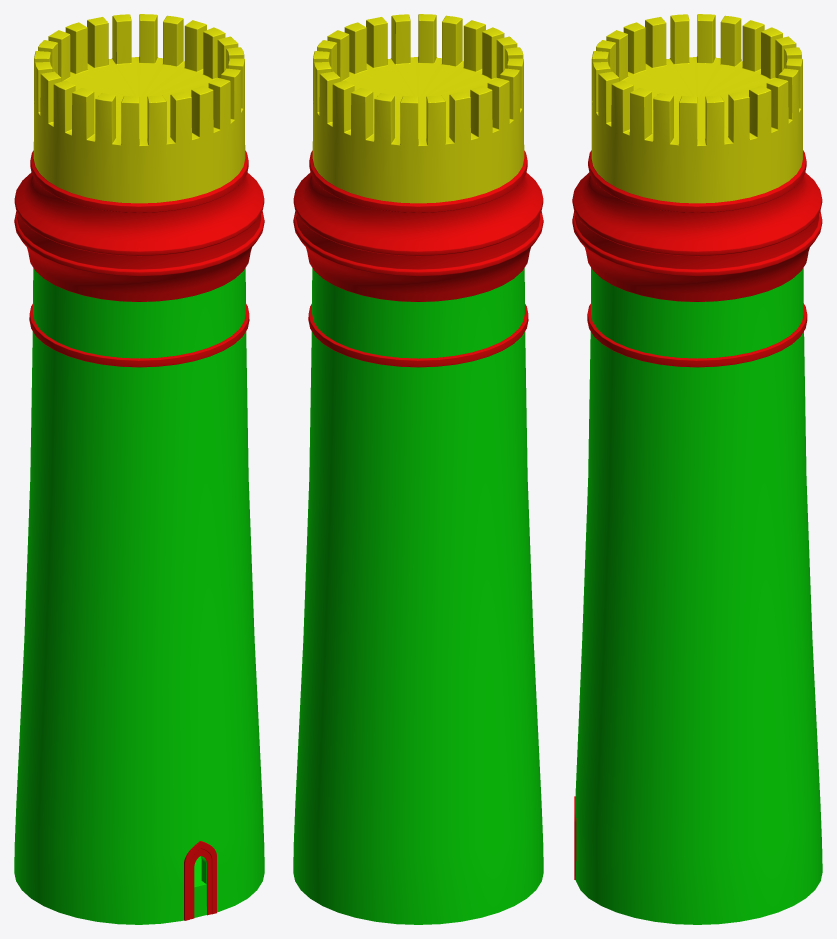
File: TowerLight.fbx
3 views of the same model, side by side, from view 1: azimuth 30°, elevation 25°; view 2: azimuth 150°, elevation 25°; view 3: azimuth 270°, elevation 25° (orthographic).
Visible parts, largest first — view 1: TowerLightMain, TowerLightTop, TowerLightRingLarge, TowerLightRingSmall, TowerLightEntrance; view 2: TowerLightMain, TowerLightTop, TowerLightRingLarge, TowerLightRingSmall; view 3: TowerLightMain, TowerLightTop, TowerLightRingLarge, TowerLightRingSmall.
Boxes of the visible parts, left/top/right/bottom form: TowerLightMain: left=14, top=268, right=264, bottom=924; TowerLightTop: left=33, top=14, right=245, bottom=203; TowerLightRingLarge: left=14, top=150, right=264, bottom=301; TowerLightRingSmall: left=29, top=304, right=249, bottom=367; TowerLightEntrance: left=184, top=841, right=216, bottom=920; TowerLightMain: left=293, top=268, right=543, bottom=924; TowerLightTop: left=312, top=14, right=524, bottom=203; TowerLightRingLarge: left=293, top=150, right=543, bottom=301; TowerLightRingSmall: left=308, top=304, right=528, bottom=367; TowerLightMain: left=575, top=268, right=822, bottom=924; TowerLightTop: left=591, top=14, right=802, bottom=203; TowerLightRingLarge: left=572, top=150, right=822, bottom=301; TowerLightRingSmall: left=587, top=303, right=807, bottom=367.
Bounding box in the file's own units: 2057 × 7369 × 2055.
